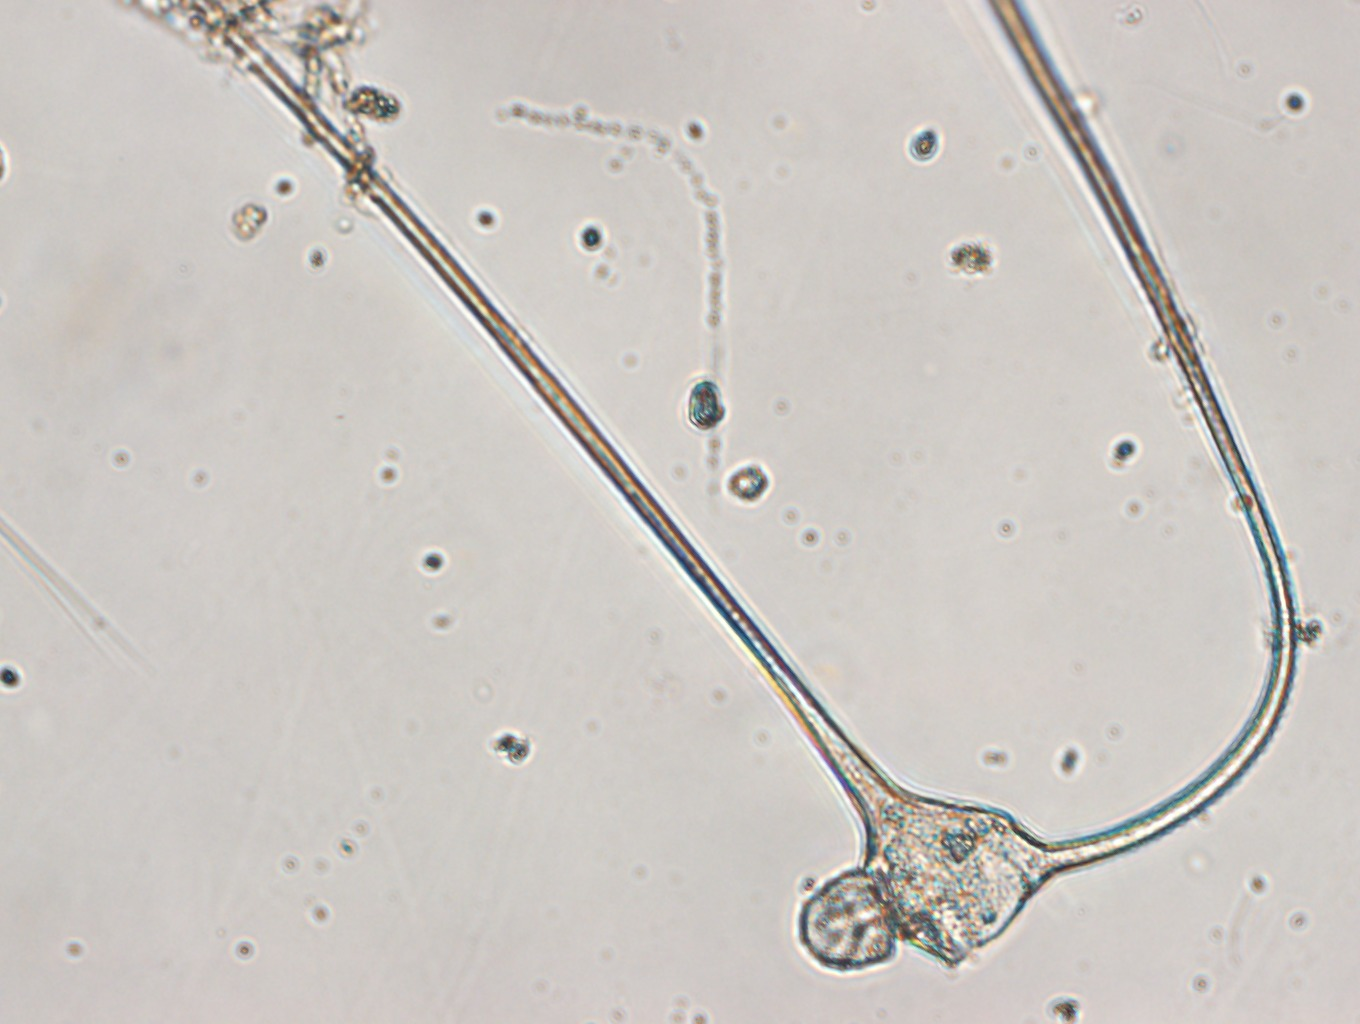ceratium trichoceros: (188, 1, 1304, 979)
